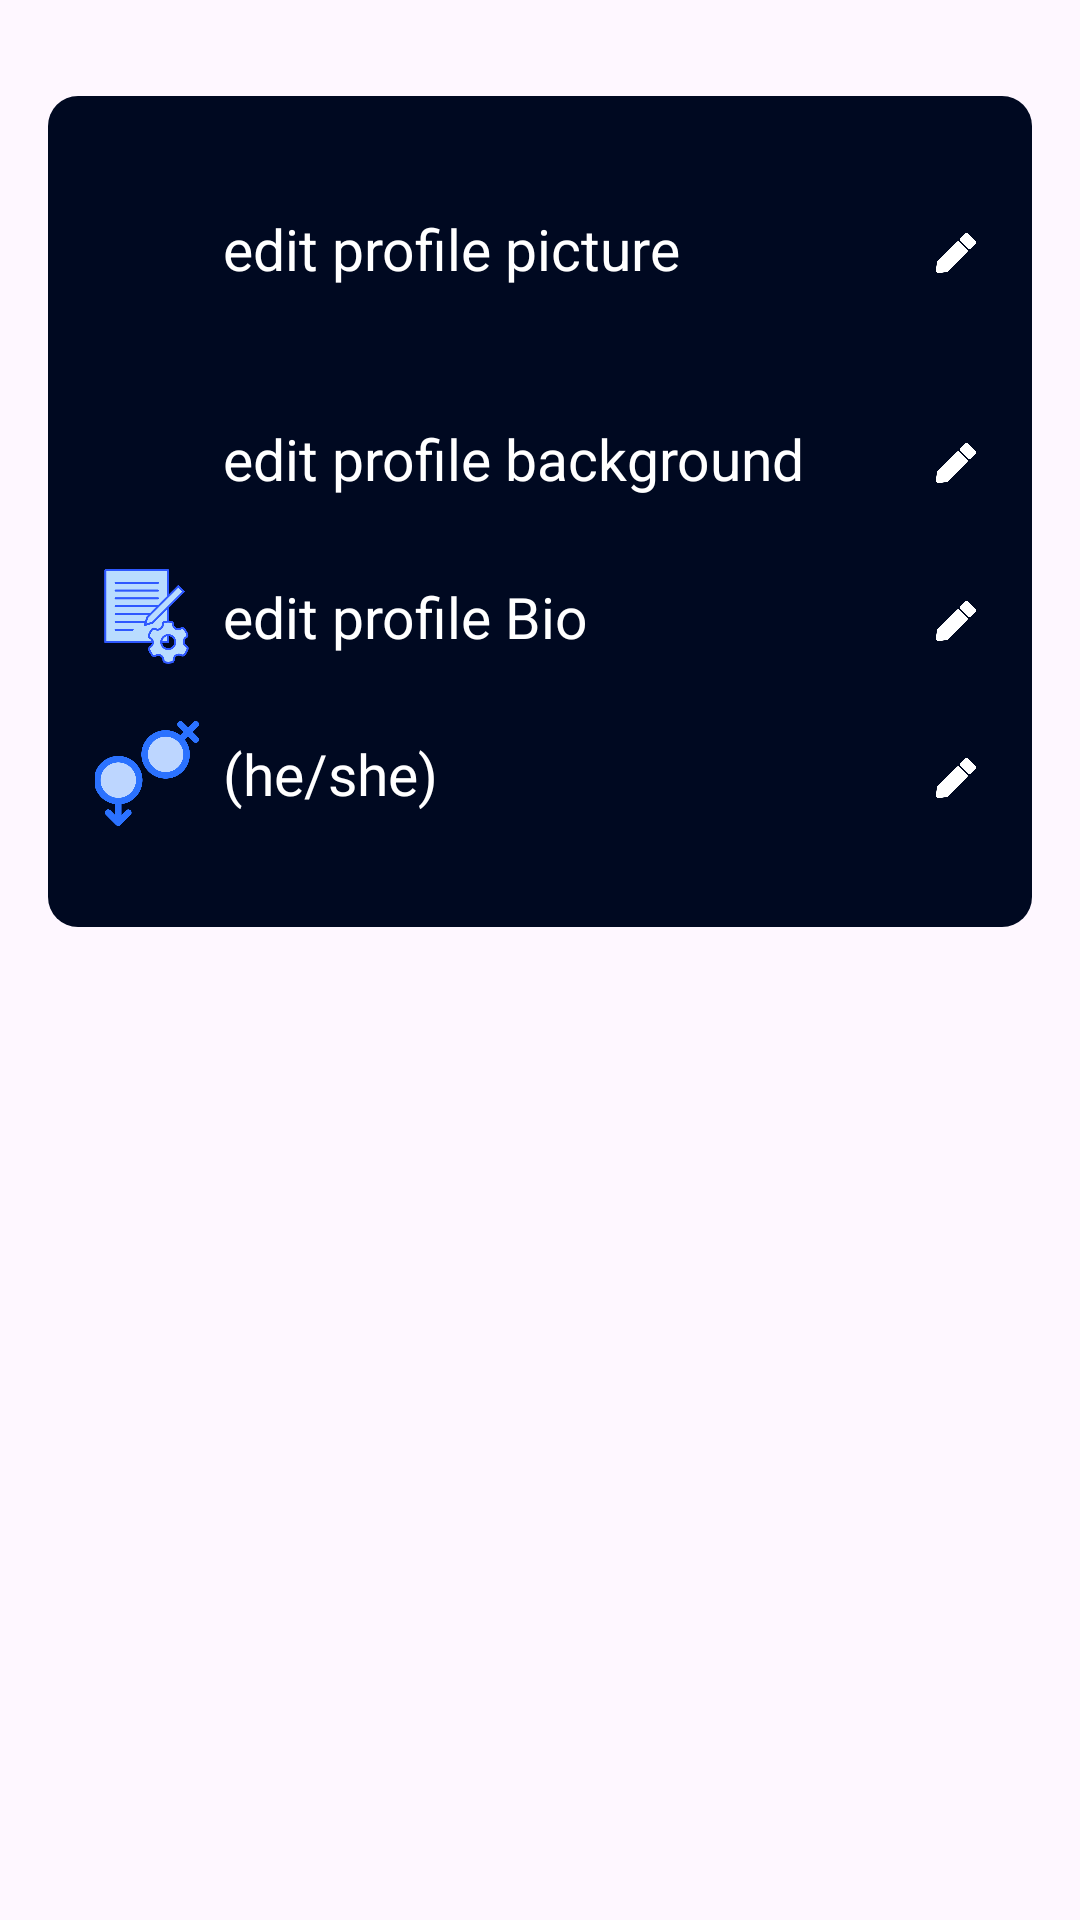

Locate icon controls on the screen. Image size 1080w x 1920h, boxes as (x1, y1, x2, y2).
gender: (95, 721, 199, 826)
pencil: (936, 233, 976, 273), (936, 443, 976, 483), (936, 601, 976, 641), (936, 758, 976, 798)
